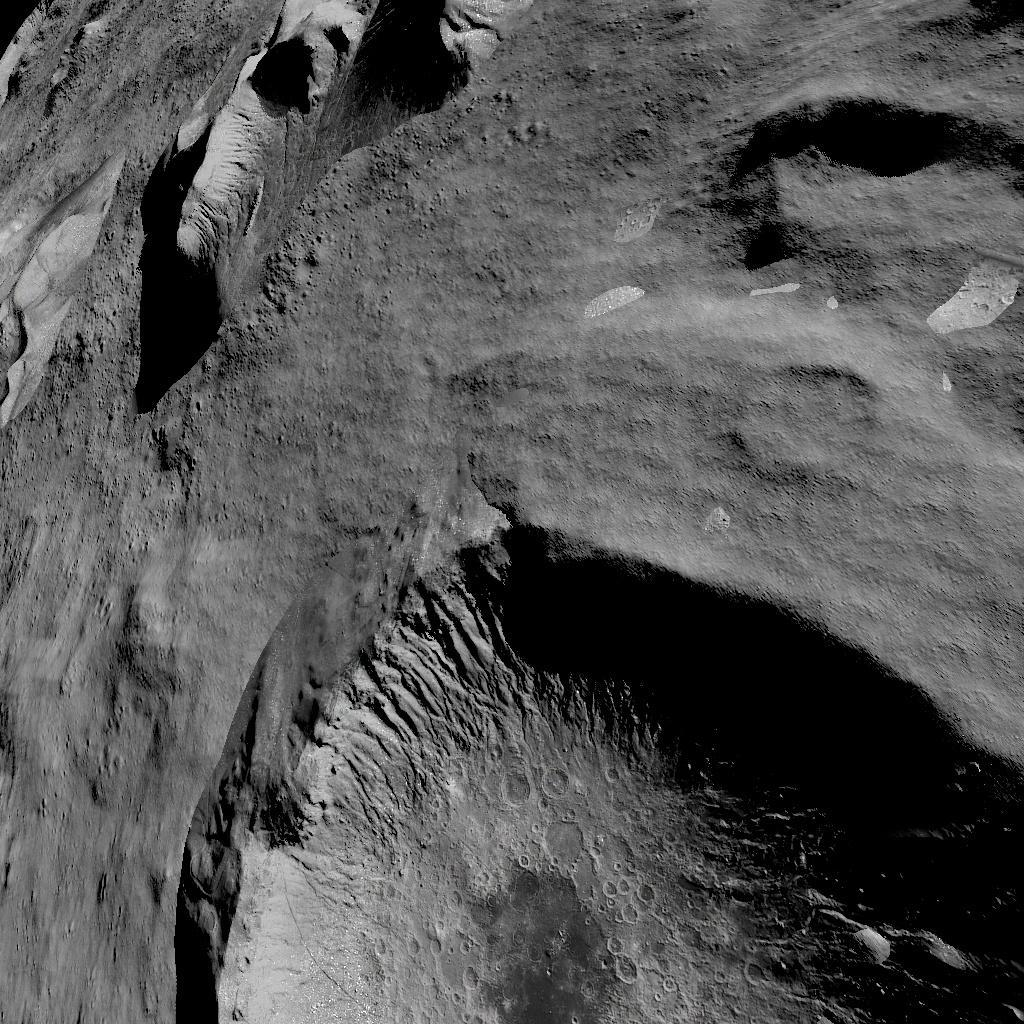Boulders: (66, 2, 518, 393)
Crater: (138, 512, 1024, 1024), (688, 0, 1024, 311), (739, 362, 877, 480)
